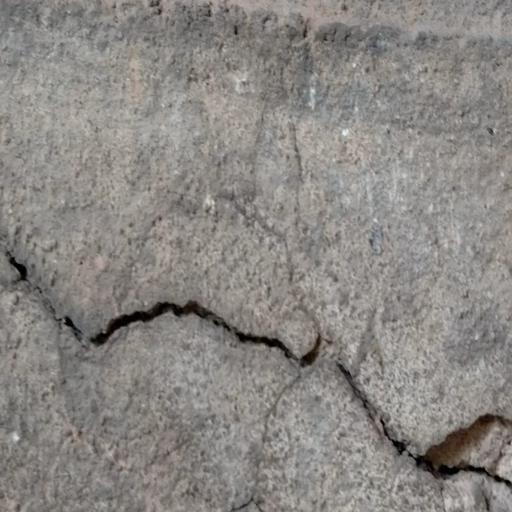major_crack: (1, 223, 512, 495)
